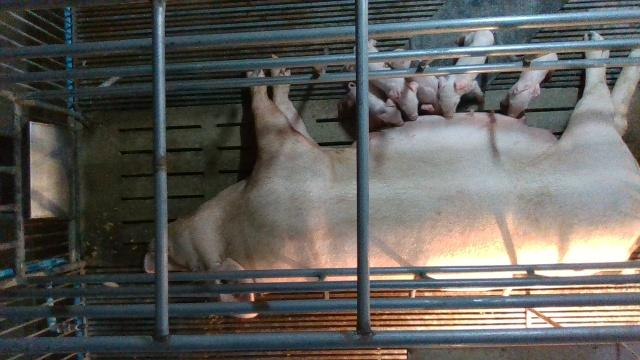piglet: (355, 38, 420, 122), (438, 28, 495, 118), (389, 46, 441, 115), (506, 52, 559, 118), (347, 82, 406, 128)
sow-sleep-lactate: (144, 31, 640, 319)
